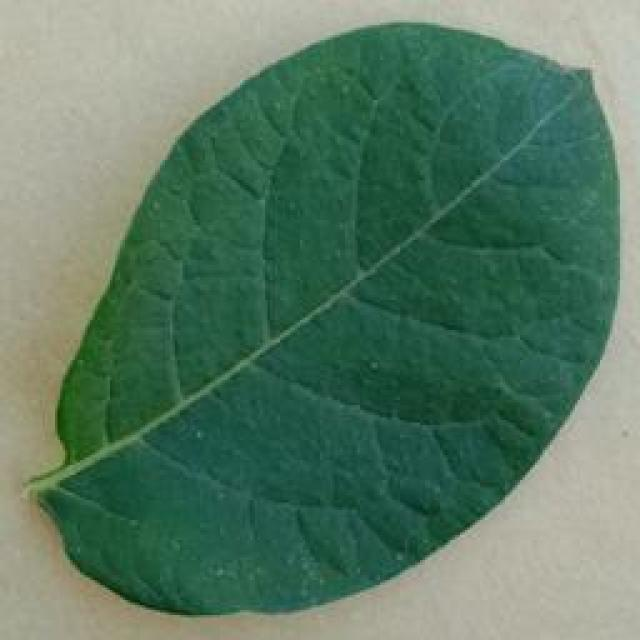Potato_Healthy: (31, 23, 611, 611)
